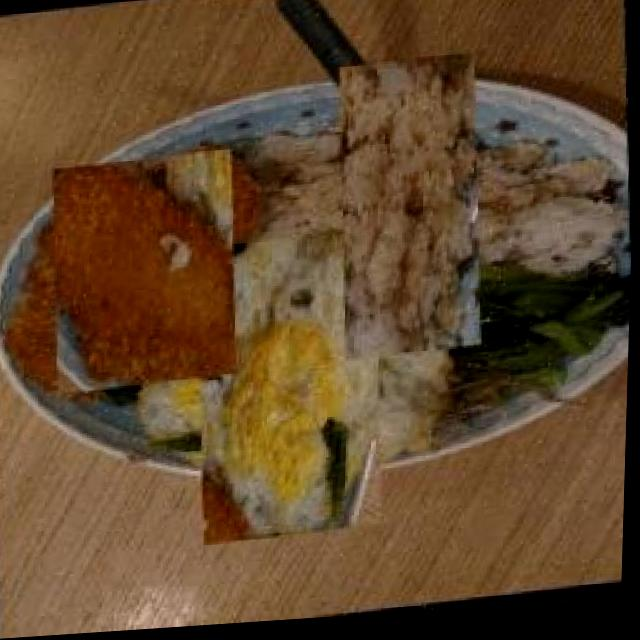fried_chicken: (39, 161, 257, 385)
fried_eggs: (163, 258, 421, 524)
rice: (297, 92, 527, 332)
